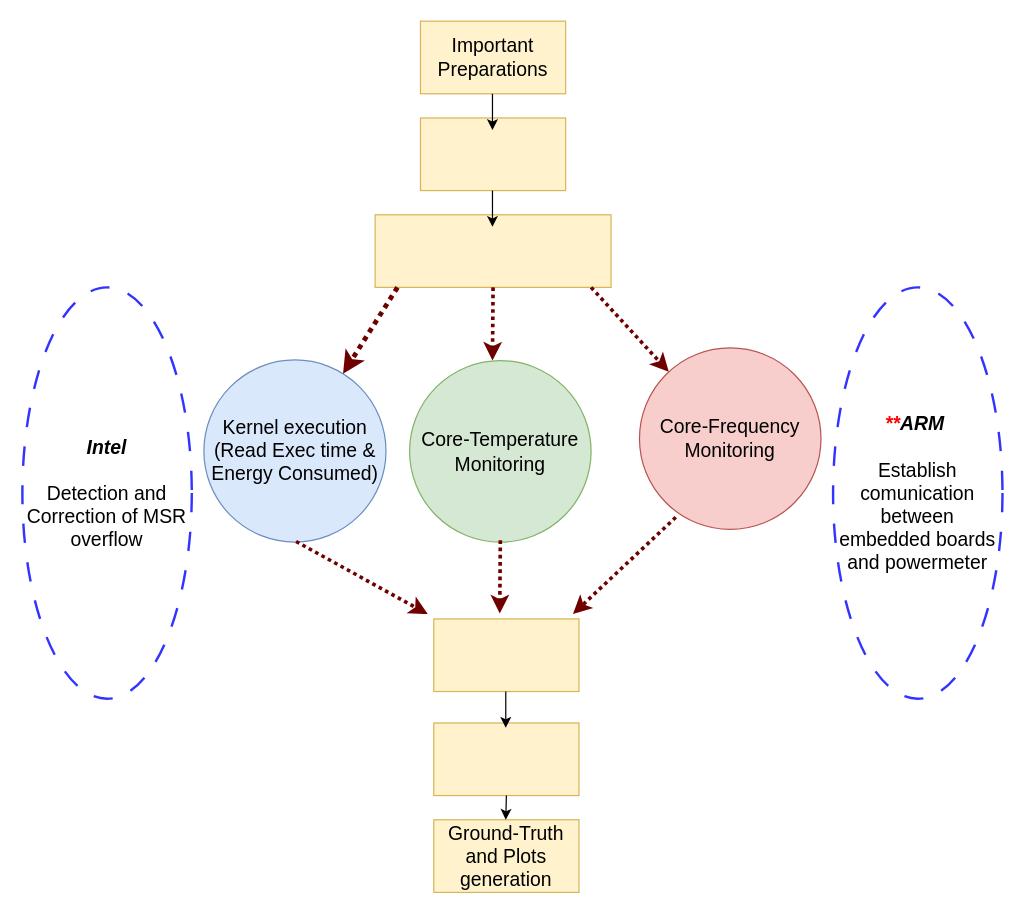
The diagram is 1024 pixels wide and 914 high, and some of its shapes have lost their labels. The shapes that lost their labels are listed below. From the top down, each one's centre as x and y in pixels, then its label:
[492,154]: Compile C-source code
[492,250]: Enforce sleep Set sampling frequency
[506,655]: Collate results in main thread
[506,759]: CSV writeback
